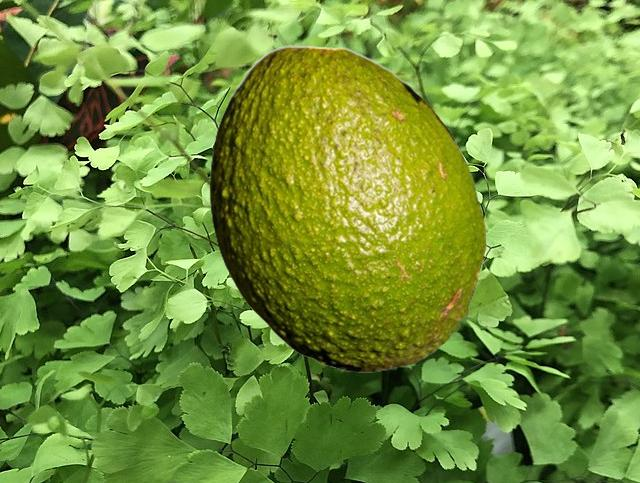avocado: (209, 45, 485, 371)
